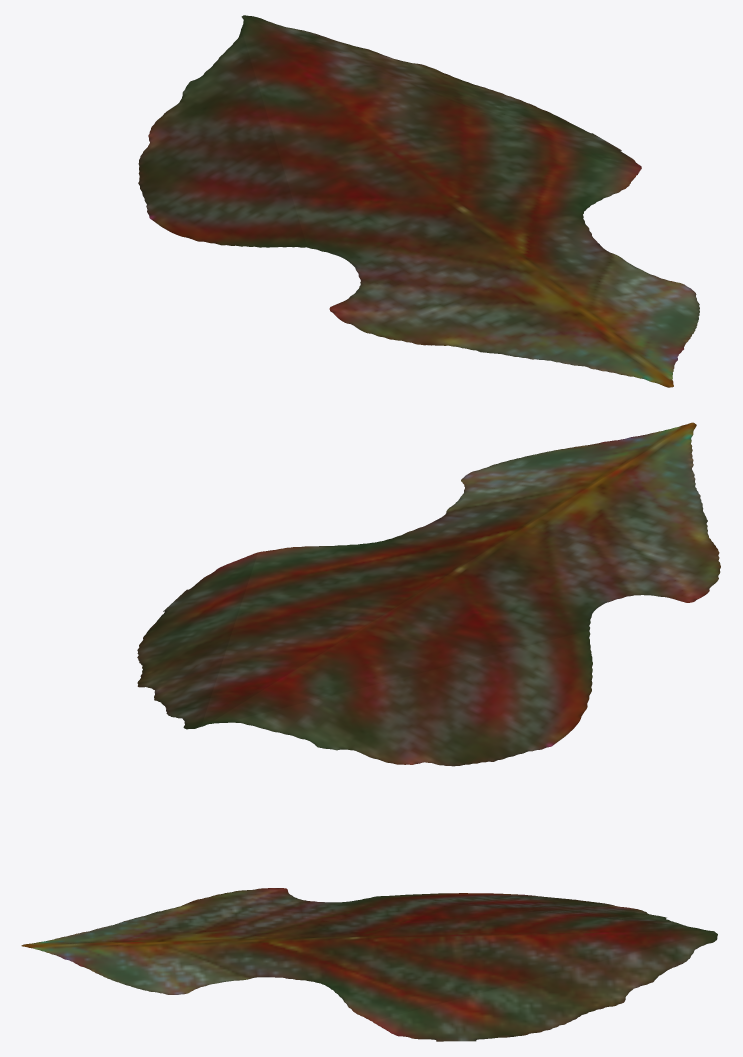
Rendered from Row Root Leaf D.fbx.
The picture shows the model from 3 angles, top to bottom: view 1: azimuth 30°, elevation 25°; view 2: azimuth 150°, elevation 25°; view 3: azimuth 270°, elevation 25°; orthographic projection. The views are drawn at different scales.
Visible parts, largest first — view 1: Row Root Leaf D; view 2: Row Root Leaf D; view 3: Row Root Leaf D.
Part boxes in pixels (<box>): Row Root Leaf D: <box>138,15,699,387</box>; Row Root Leaf D: <box>137,422,720,766</box>; Row Root Leaf D: <box>21,888,717,1041</box>.
Bounding box in the file's own units: 45.5 × 7.19 × 83.88.
